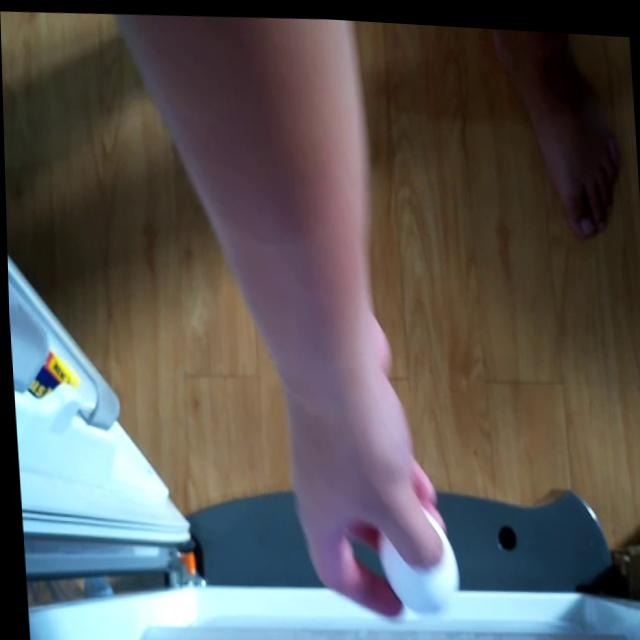egg: (379, 507, 460, 620)
